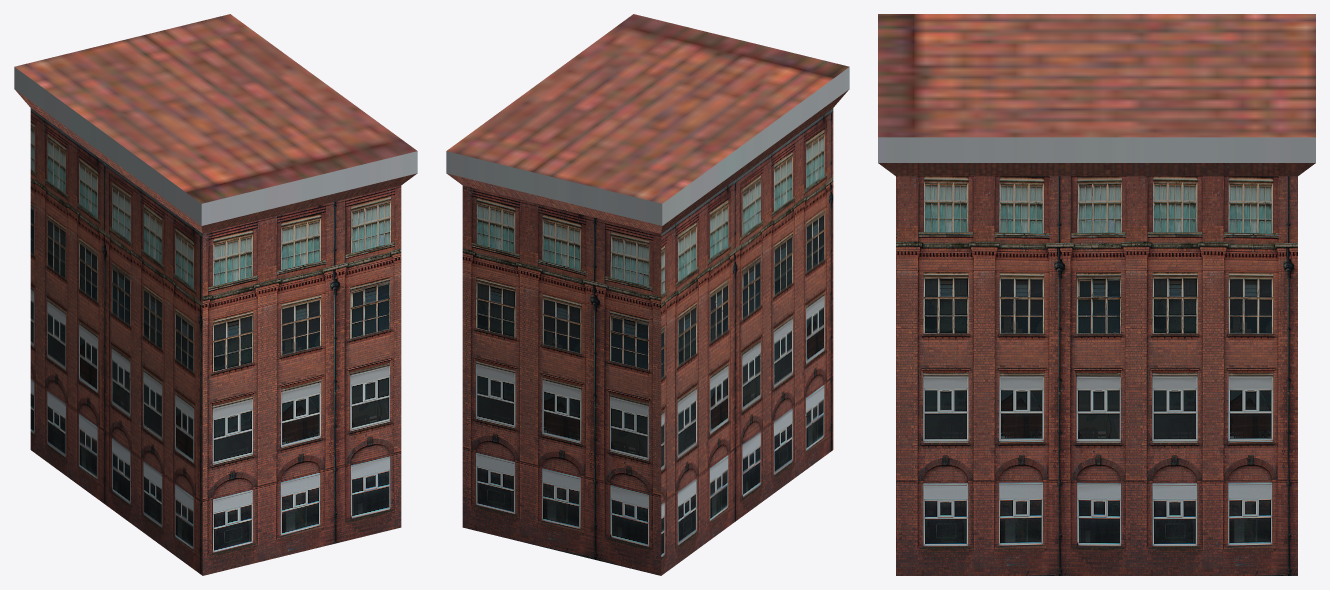
Rendered from buildin2.fbx.
3 renders of one model, left to right at view 1: azimuth 30°, elevation 25°; view 2: azimuth 150°, elevation 25°; view 3: azimuth 270°, elevation 25°, orthographic. The views are drawn at different scales.
Visible parts, largest first — view 1: BUILDING2; view 2: BUILDING2; view 3: BUILDING2.
Boxes of the visible parts, x1,y1,x2,y2 form: BUILDING2: (14,14,417,575); BUILDING2: (446,14,849,575); BUILDING2: (878,14,1315,575).
Size of the model in its own units: 6.73 by 11.3 by 10.1.
